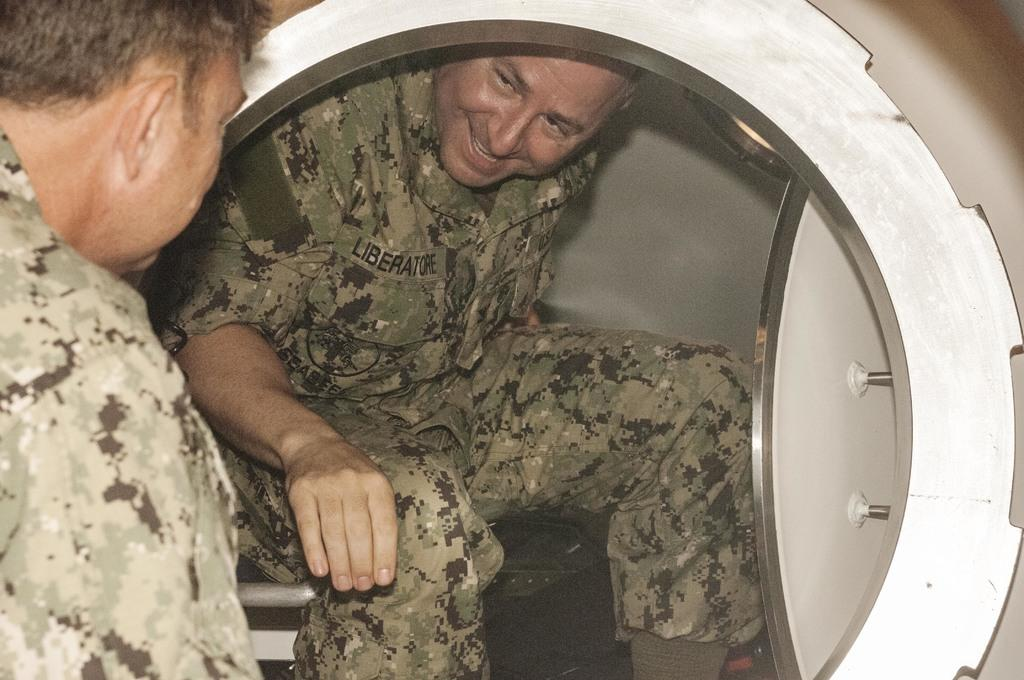Sem Máscara: (428, 41, 639, 191), (140, 33, 250, 267)
